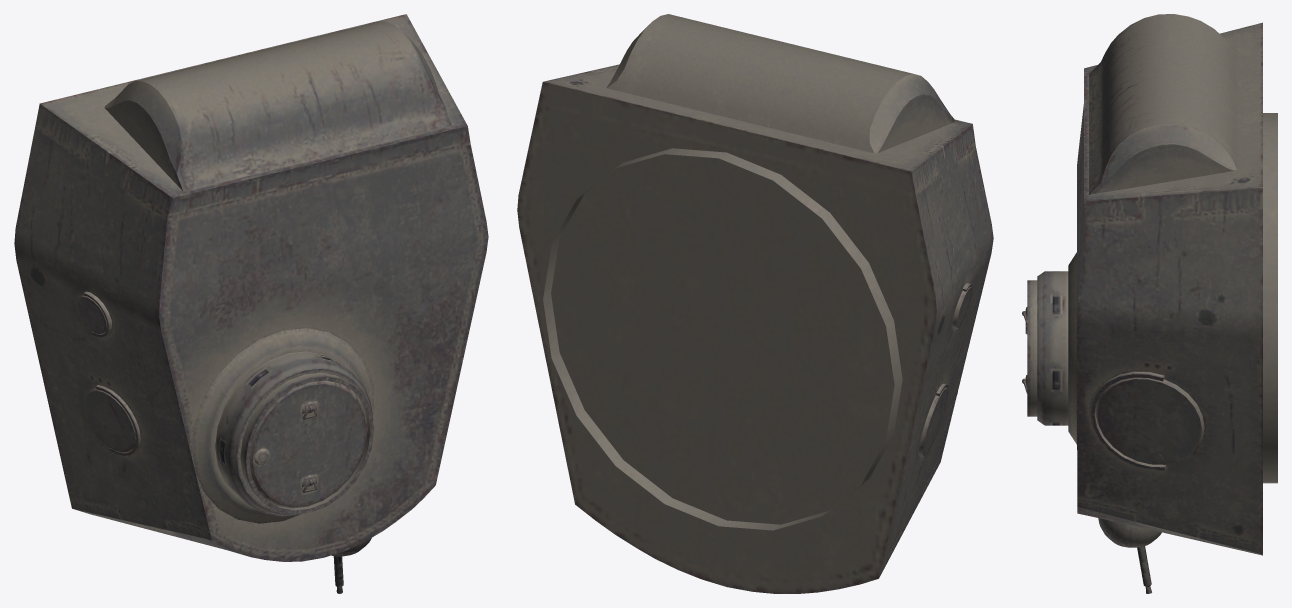
File: Turret_02.glb
3 renders of one model, left to right at view 1: azimuth 30°, elevation 25°; view 2: azimuth 150°, elevation 25°; view 3: azimuth 270°, elevation 25°, orthographic. The views are drawn at different scales.
Parts seen in each view (by area): view 1: set_0_group_0; view 2: set_0_group_0; view 3: set_0_group_0.
Boxes of the visible parts, x1,y1,x2,y2 form: set_0_group_0: [14, 14, 488, 593]; set_0_group_0: [517, 14, 993, 593]; set_0_group_0: [1022, 14, 1277, 593].
Size of the model in its own units: 2.15 by 2.66 by 1.23.
Materials: 1 (1 with a texture image).
